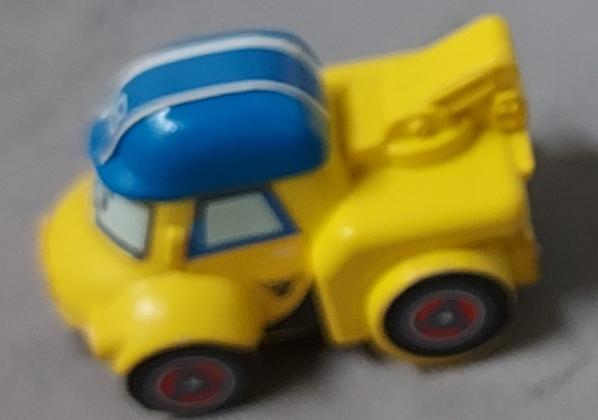car: (1, 0, 598, 420)
